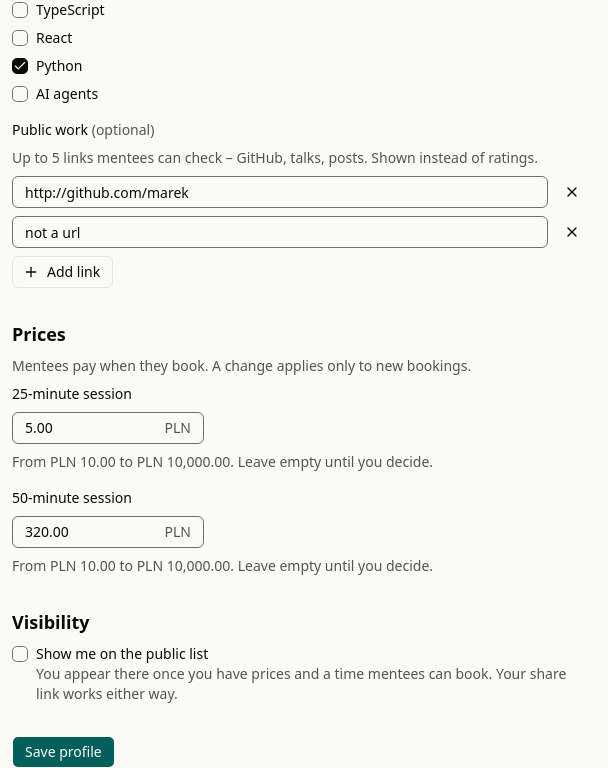
Test case: MentorProfileForm › checks lengths, links and price ranges
(page scrolled)
Type "abc" into the field labelled "50-minute session" at [89, 532], box 13,517 -> 164,547
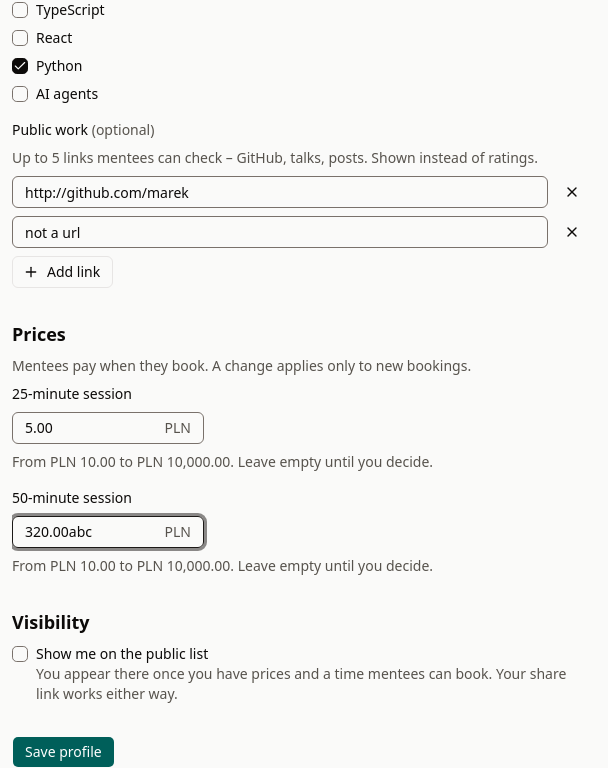
Click the button "Save profile" at [63, 752], box 12,736 -> 115,767
(page scrolled)
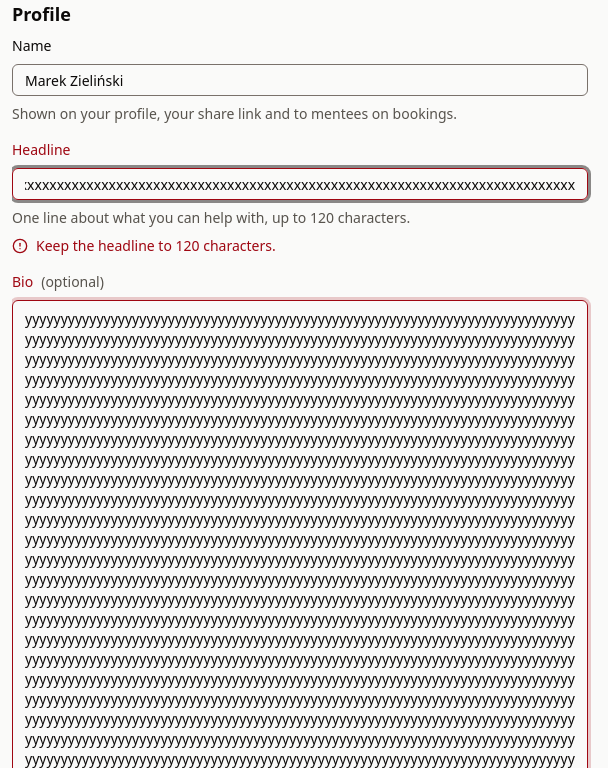
expect the text "Keep the headline to 120 characters." is shown: met, box 36,236 -> 276,256
